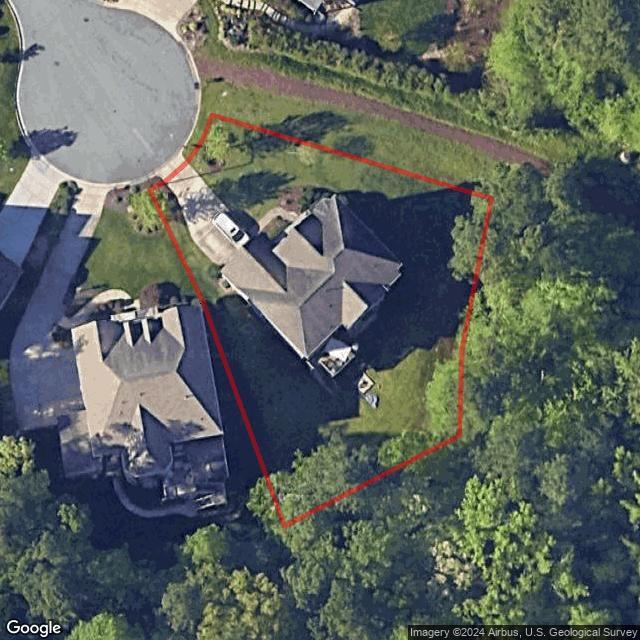Driveway: (164, 161, 254, 266)
Extra-Driveway: (158, 155, 187, 181)
Extra-Lawn: (181, 110, 214, 161)
House: (222, 195, 401, 362)
Lawn: (150, 115, 492, 527)
Other: (309, 338, 358, 377), (278, 186, 337, 215), (149, 183, 187, 227), (358, 372, 375, 394)
Sidewalk: (247, 206, 299, 238)
